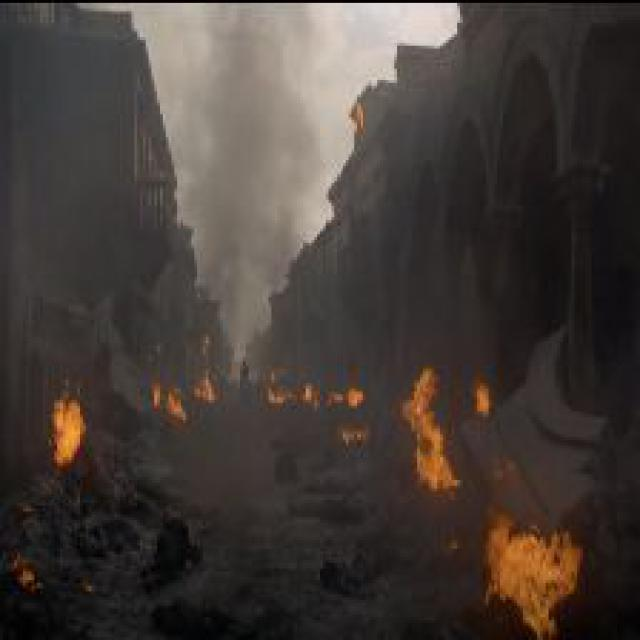fire: (386, 357, 520, 506), (474, 497, 592, 637), (40, 386, 89, 480)
